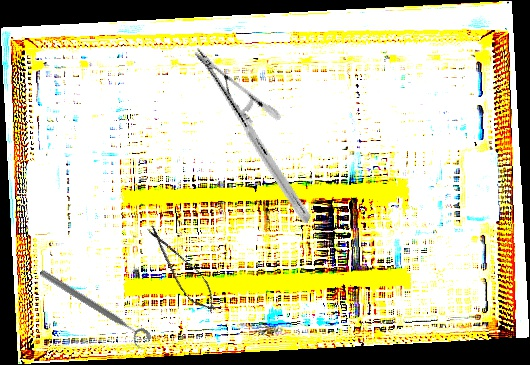Fixation Ring: (33, 266, 154, 352)
Micro Scissor: (138, 219, 225, 320)
Needle Holder: (148, 47, 357, 224)
